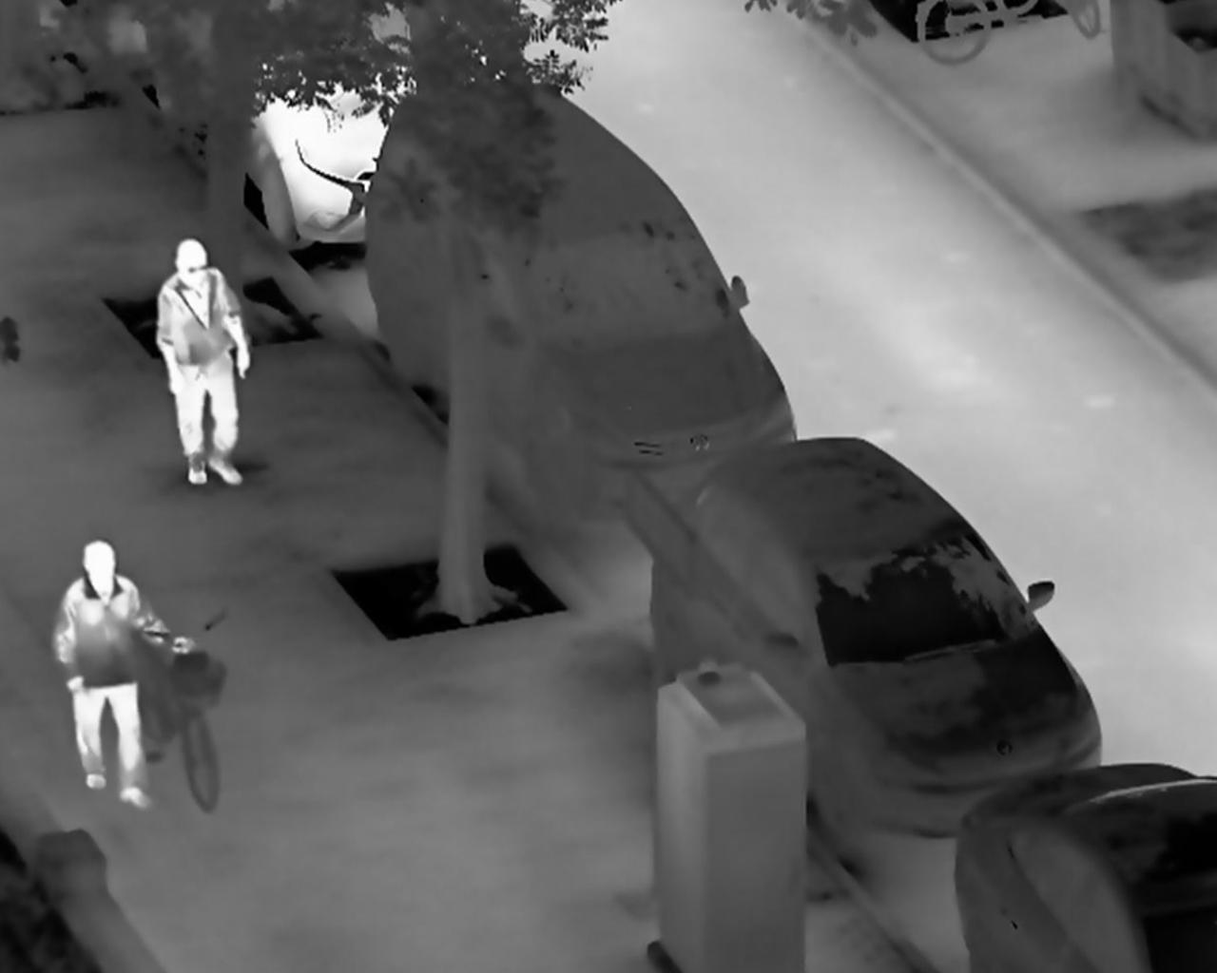person: (48, 539, 192, 809), (151, 237, 251, 490)
